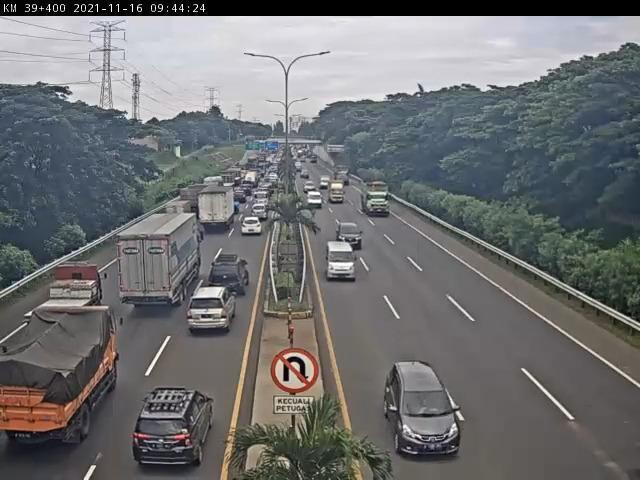car: (386, 359, 462, 460), (132, 388, 216, 468), (189, 287, 238, 336), (211, 255, 252, 295), (326, 242, 358, 285), (338, 223, 365, 252), (244, 218, 264, 237)
truck: (1, 304, 123, 451), (117, 214, 207, 313), (24, 261, 111, 338), (201, 186, 235, 233), (362, 183, 392, 220)
